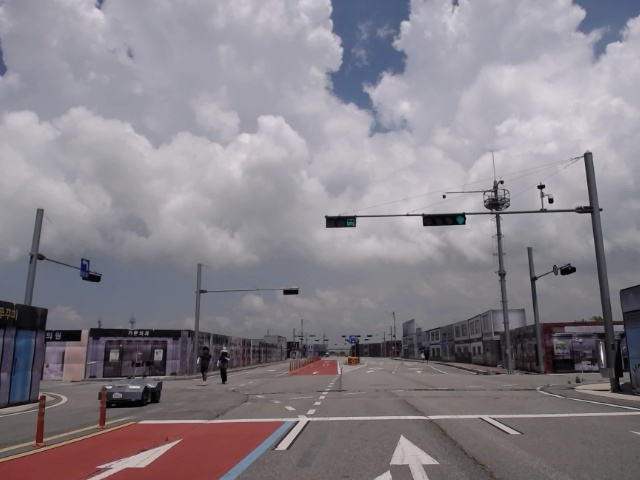straight_green_4: (426, 215, 468, 225)
